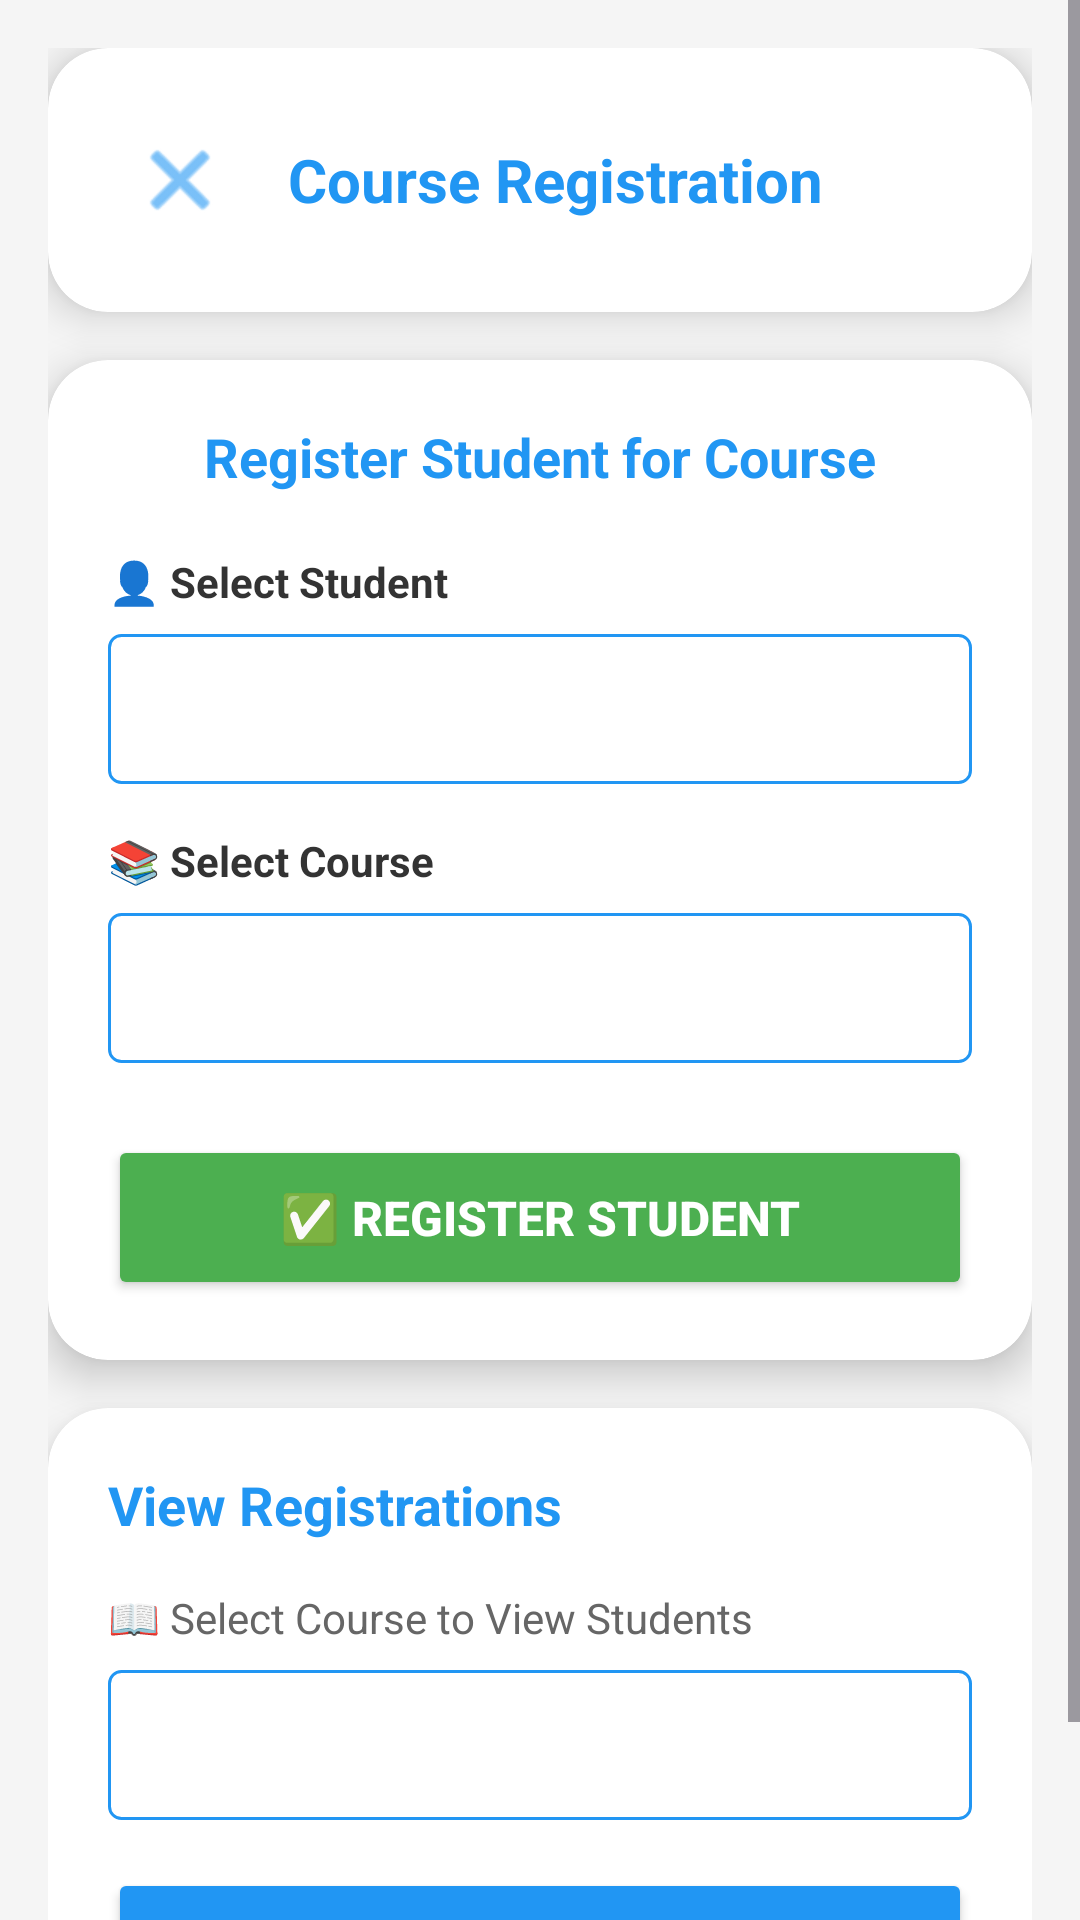

Icons on this 1080px×1920px Android screen, each with the point to tap as [x,y]:
close clear cancel: [180,180]
